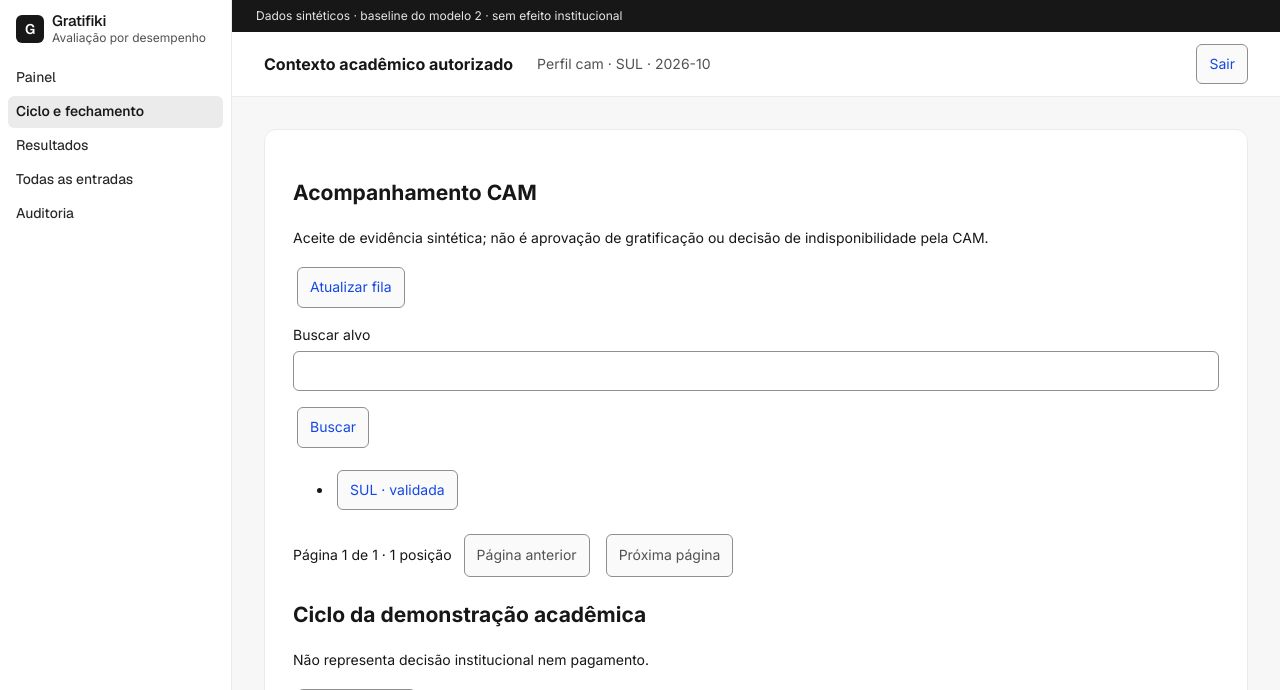
Test: CAM requires reason/reference and retries ambiguous decisions with the exact original operation
Click the button "SUL · validada": (397, 490) [337,470,458,510]
(page scrolled)
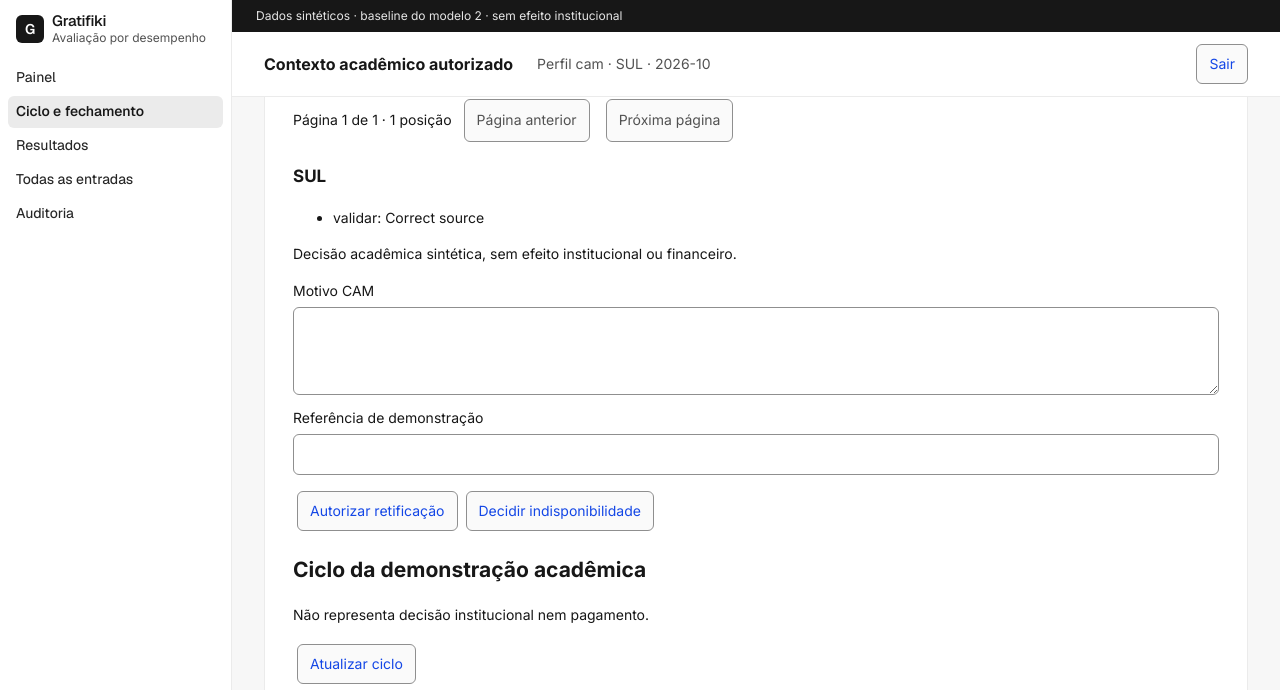
Click the button "Decidir indisponibilidade": (560, 511) [466,491,654,531]
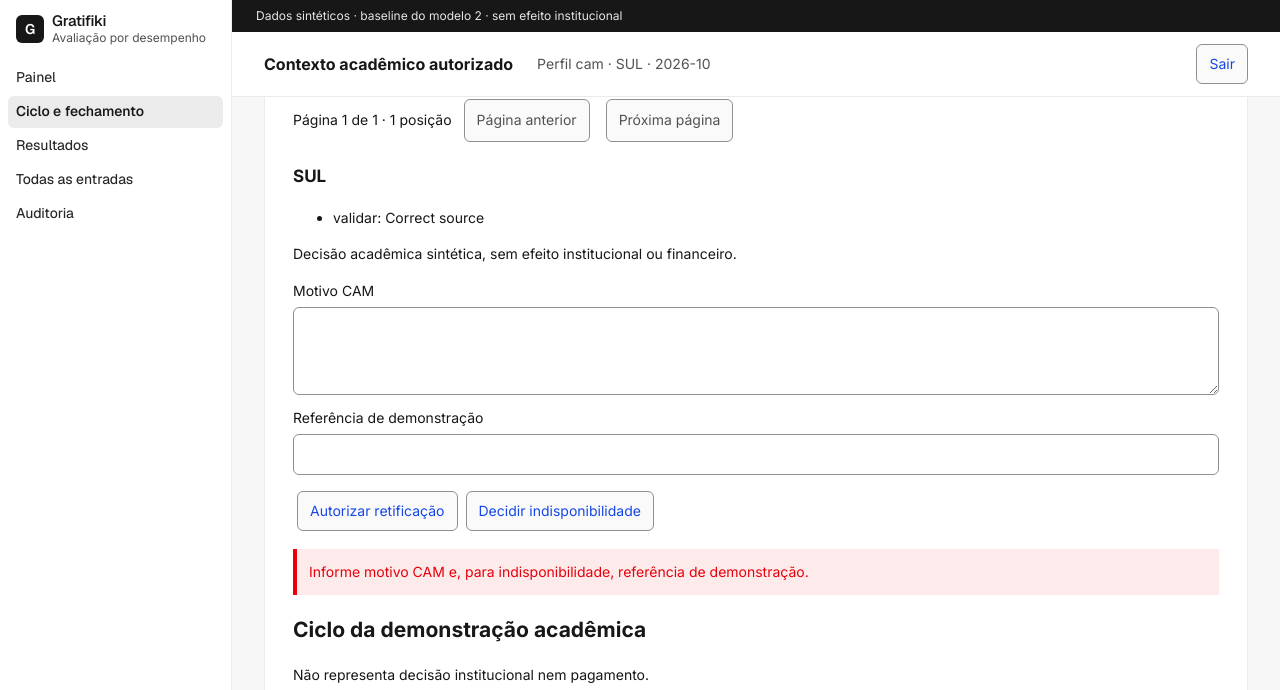
Result: the message "Informe motivo CAM e, para indisponibilidade, referência de demonstração." is shown at [293,549,1219,596]
In the text box labelled "Motivo CAM": (756, 351) [293,307,1219,395], type "  Synthetic reason  "
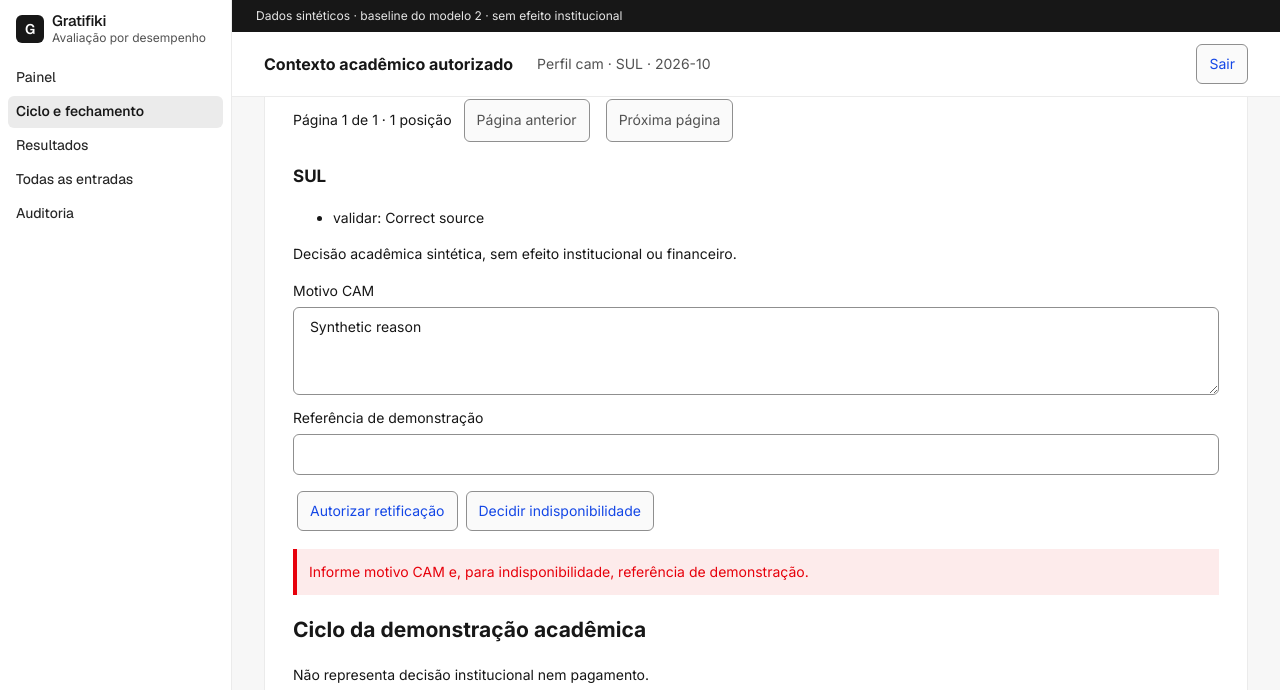
In the field labelled "Referência de demonstração": (756, 454) [293,434,1219,475], type " DEMO-REF "
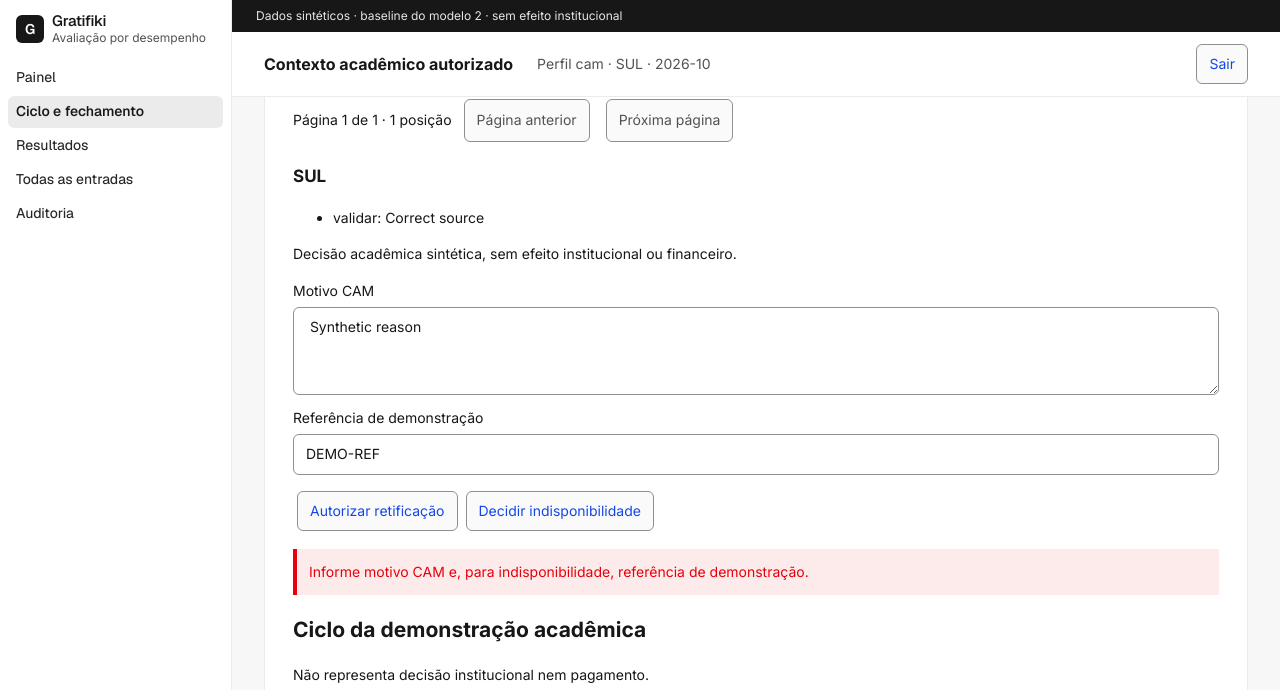
Click the button "Decidir indisponibilidade": (560, 511) [466,491,654,531]
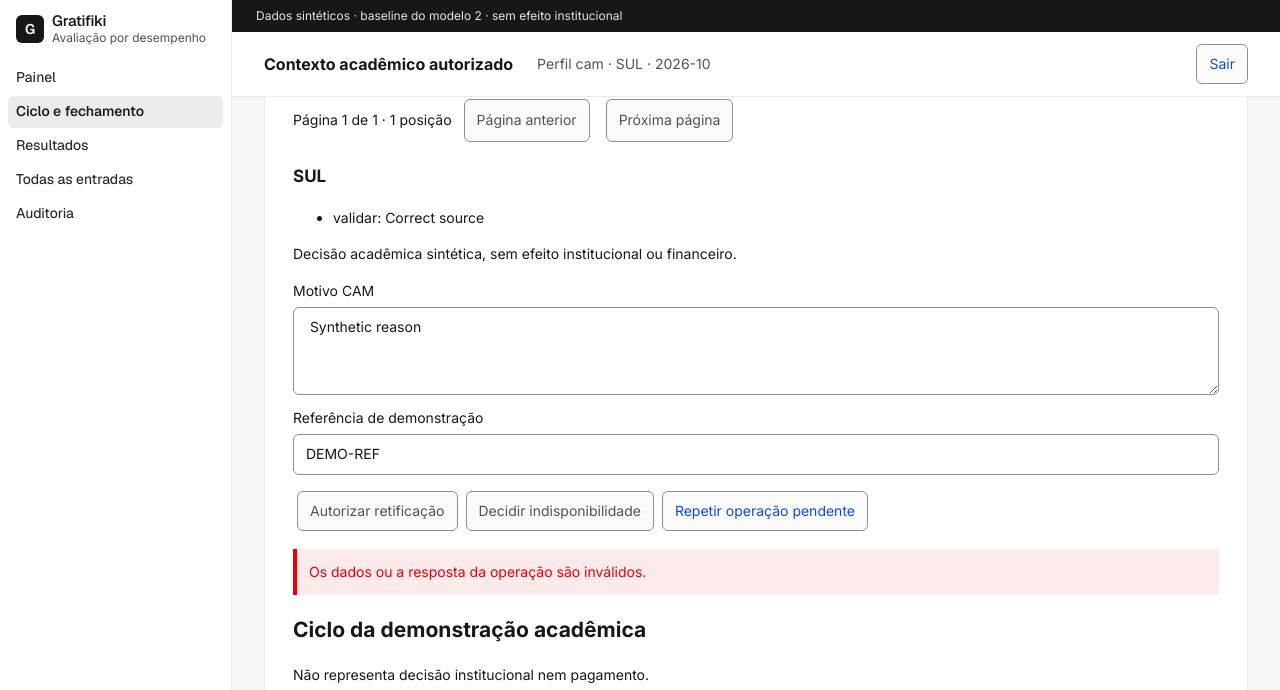
Click the button "Repetir operação pendente": (765, 511) [662,491,868,531]
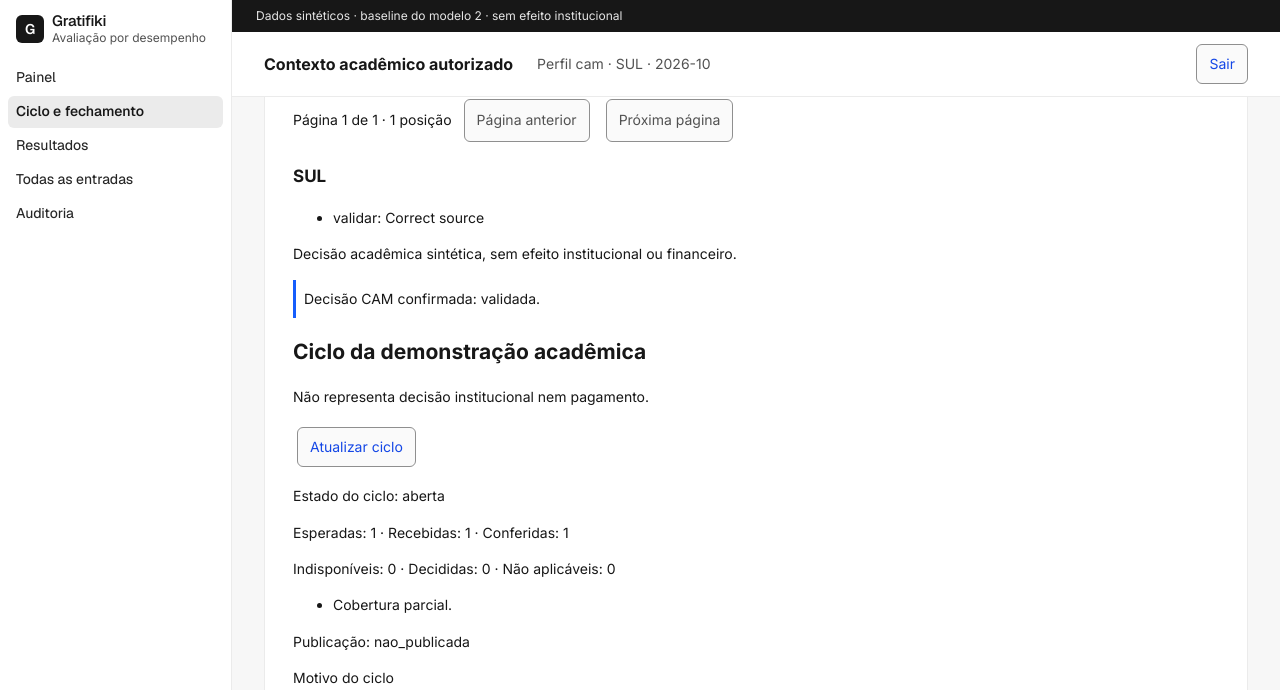
Result: the text "Decisão CAM confirmada: validada." is shown at [293,280,1219,318]
